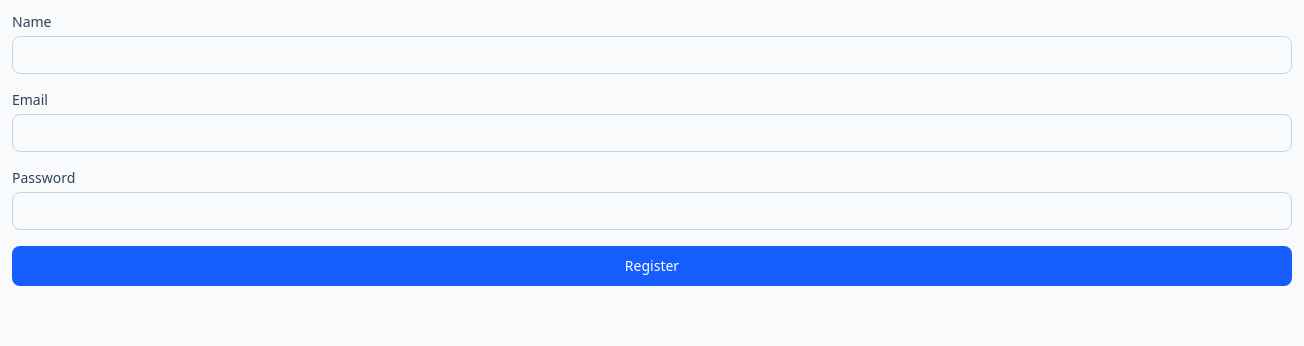
Scenario: RegisterForm › shows error message when registration fails
In the field labelled "Name": (652, 55) [12,36,1292,74], type "Boris"
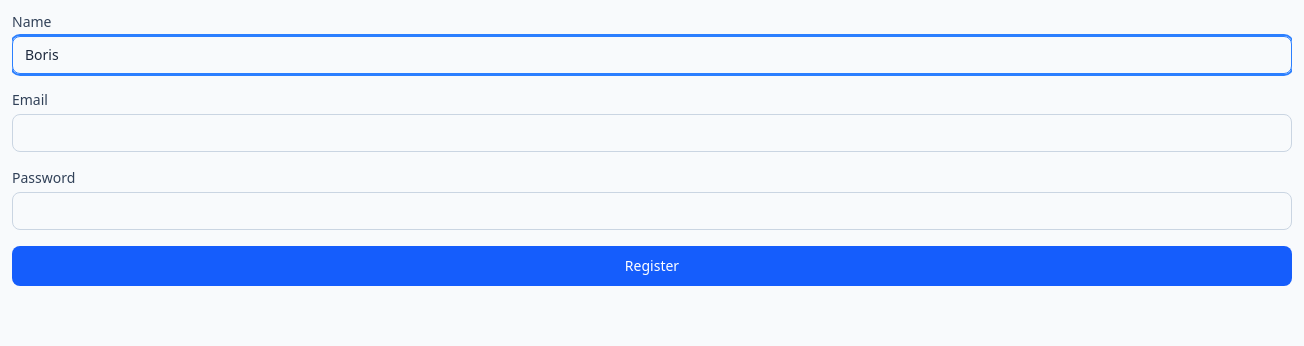
In the field labelled "Email": (652, 133) [12,114,1292,152], type "test@example.com"
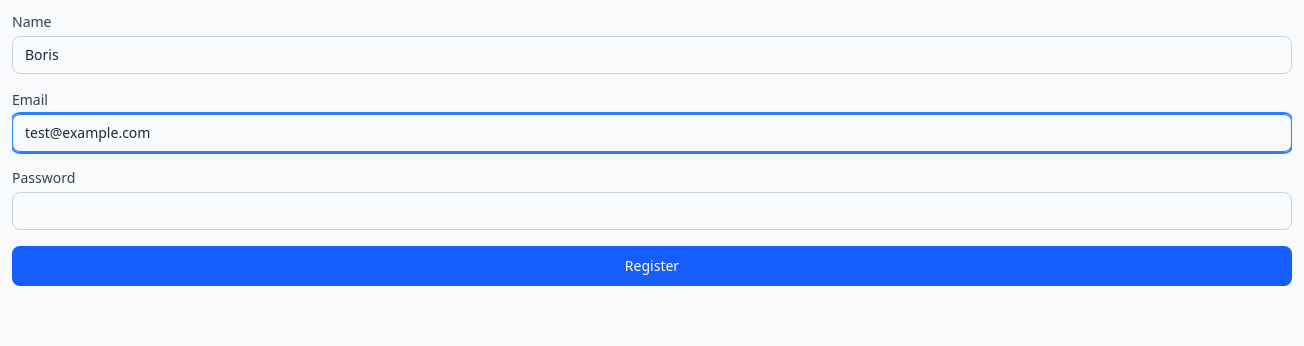
In the password field labelled "Password": (652, 211) [12,192,1292,230], type "password123"
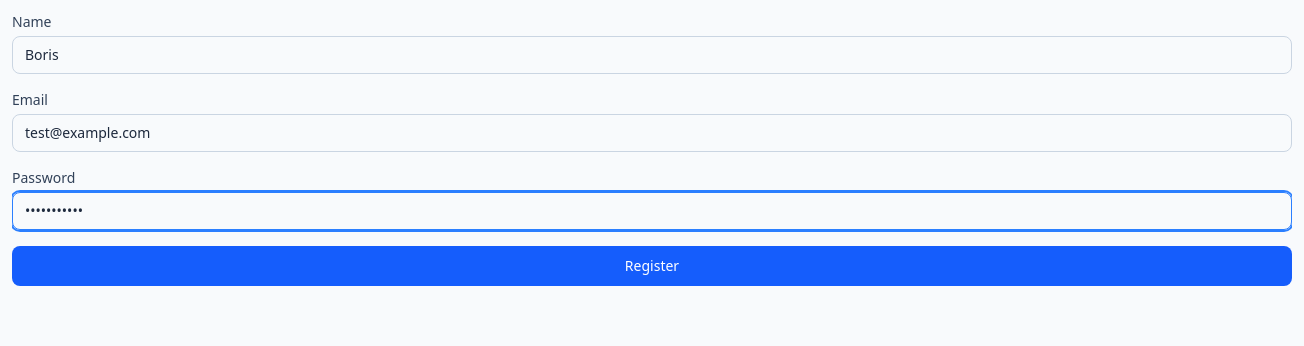
Click the button "Register": (652, 266) [12,246,1292,286]
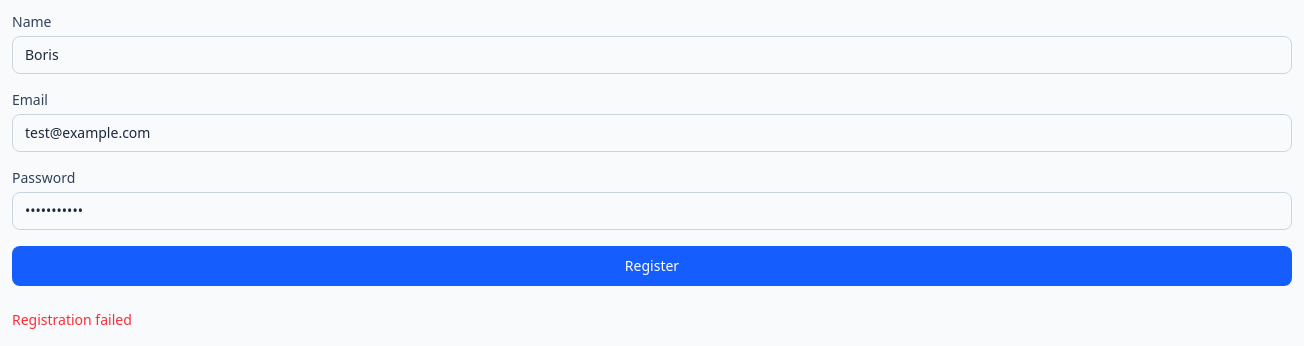
expect the text "Registration failed" is shown: met, box [12,310,132,329]
